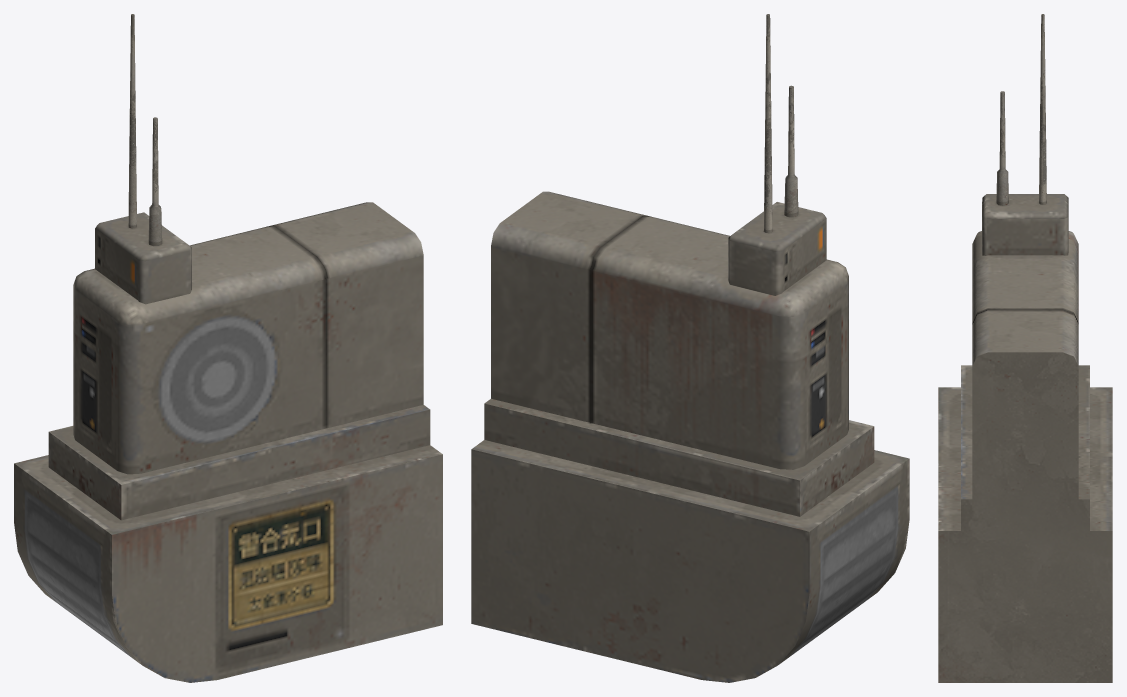
The model's file is CP_Canopy_Industrial_Antenna.fbx.
The picture shows the model from 3 angles, left to right: view 1: azimuth 30°, elevation 25°; view 2: azimuth 150°, elevation 25°; view 3: azimuth 270°, elevation 25°; orthographic projection. The views are drawn at different scales.
Parts seen in each view (by area): view 1: CP_Canopy_Industrial_Antenna_LOD0; view 2: CP_Canopy_Industrial_Antenna_LOD0; view 3: CP_Canopy_Industrial_Antenna_LOD0.
Part boxes in pixels (x1=…): CP_Canopy_Industrial_Antenna_LOD0: x1=14, y1=14, x2=442, y2=682; CP_Canopy_Industrial_Antenna_LOD0: x1=471, y1=14, x2=909, y2=682; CP_Canopy_Industrial_Antenna_LOD0: x1=938, y1=14, x2=1112, y2=682.
Size of what is drawn, in the model's own units: 81.1 by 147 by 41.56.
